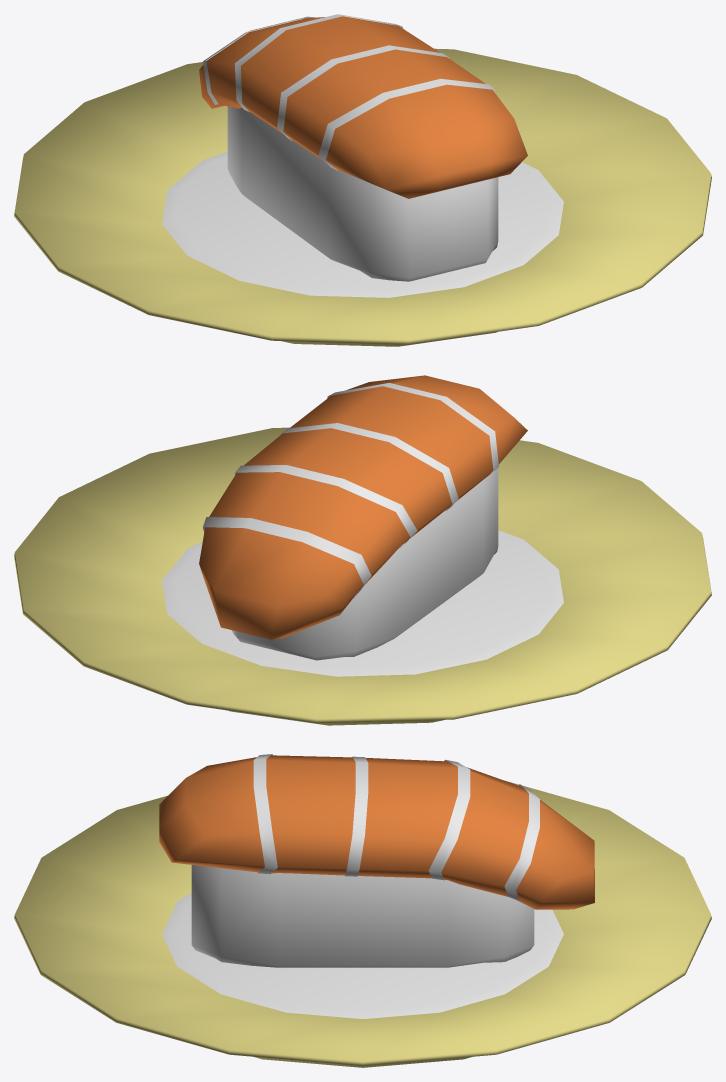
Rendered from obj0512 sushi.fbx.
3 views of the same model, one above another, from view 1: azimuth 30°, elevation 25°; view 2: azimuth 150°, elevation 25°; view 3: azimuth 270°, elevation 25° (orthographic).
Visible parts, largest first — view 1: dish, sushi; view 2: dish, sushi; view 3: dish, sushi.
Part boxes in pixels (x1,y1,x2,y2): dish: [14, 48, 711, 346]; sushi: [199, 14, 527, 281]; dish: [14, 427, 711, 725]; sushi: [199, 375, 527, 660]; dish: [14, 780, 711, 1067]; sushi: [159, 754, 594, 967].
Bounding box in the file's own units: 1.52 × 0.4428 × 1.52.
